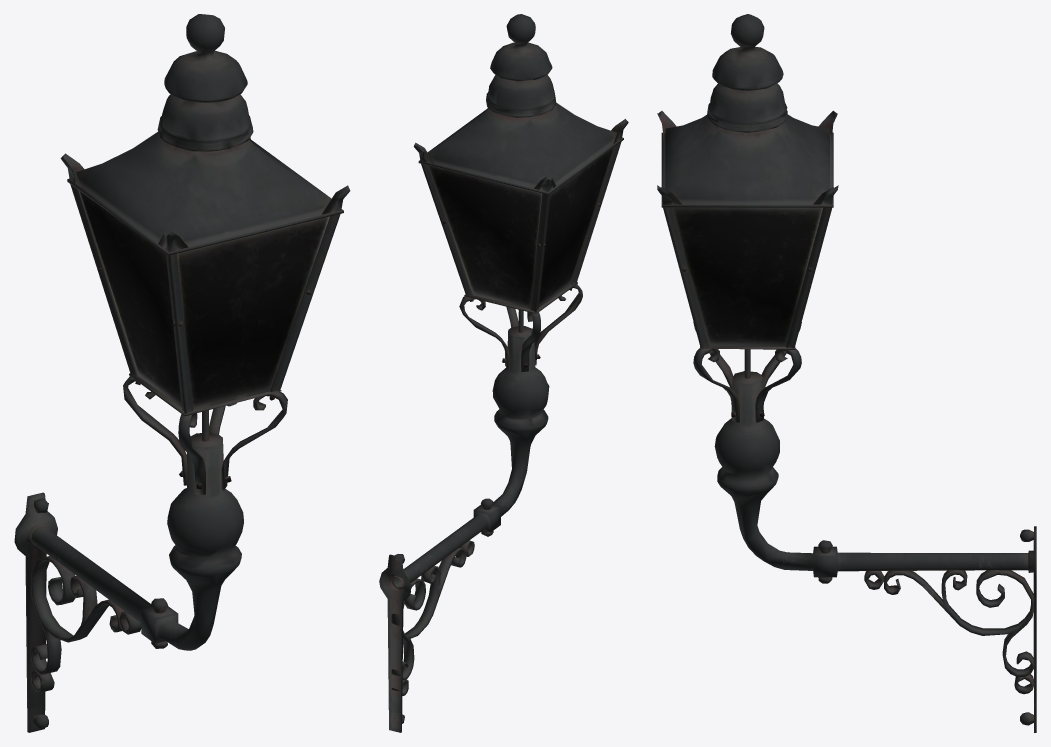
File: street_lamp_02.glb
3 renders of one model, left to right at view 1: azimuth 30°, elevation 25°; view 2: azimuth 150°, elevation 25°; view 3: azimuth 270°, elevation 25°, orthographic. The views are drawn at different scales.
Visible parts, largest first — view 1: street_lamp_02; view 2: street_lamp_02; view 3: street_lamp_02.
Boxes of the visible parts, bbox=[...] form: street_lamp_02: bbox=[14, 14, 350, 732]; street_lamp_02: bbox=[379, 14, 628, 732]; street_lamp_02: bbox=[657, 14, 1036, 732].
Size of the model in its own units: 0.3848 by 1.67 by 0.8054.
2 materials, 2 textured.
